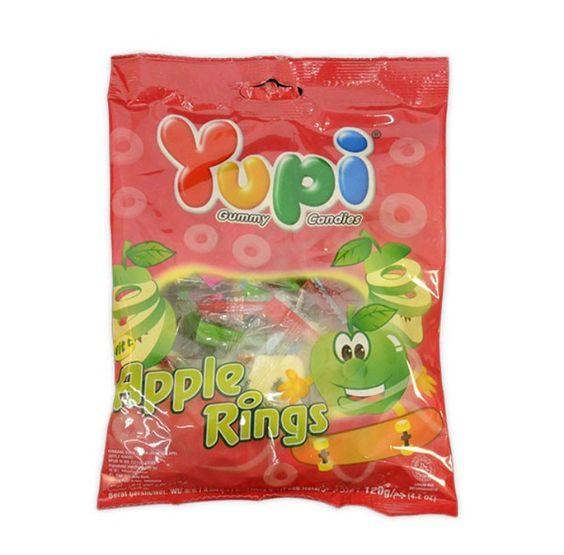Plastik: (92, 48, 457, 519)
